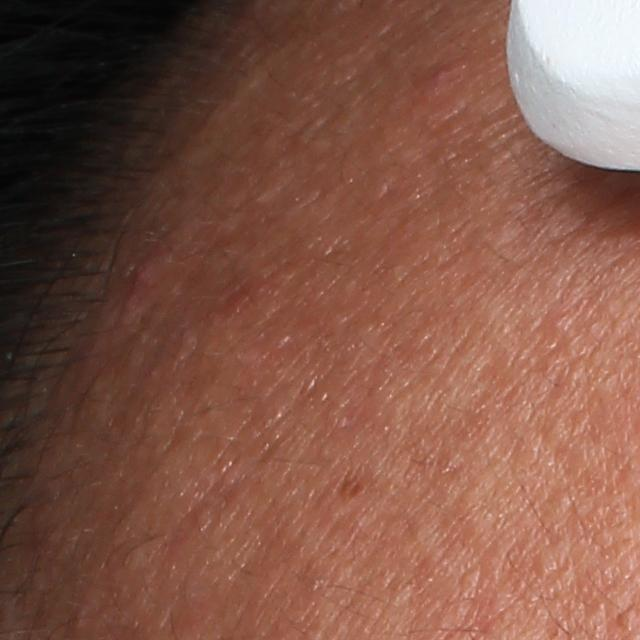papule: (125, 252, 165, 289)
